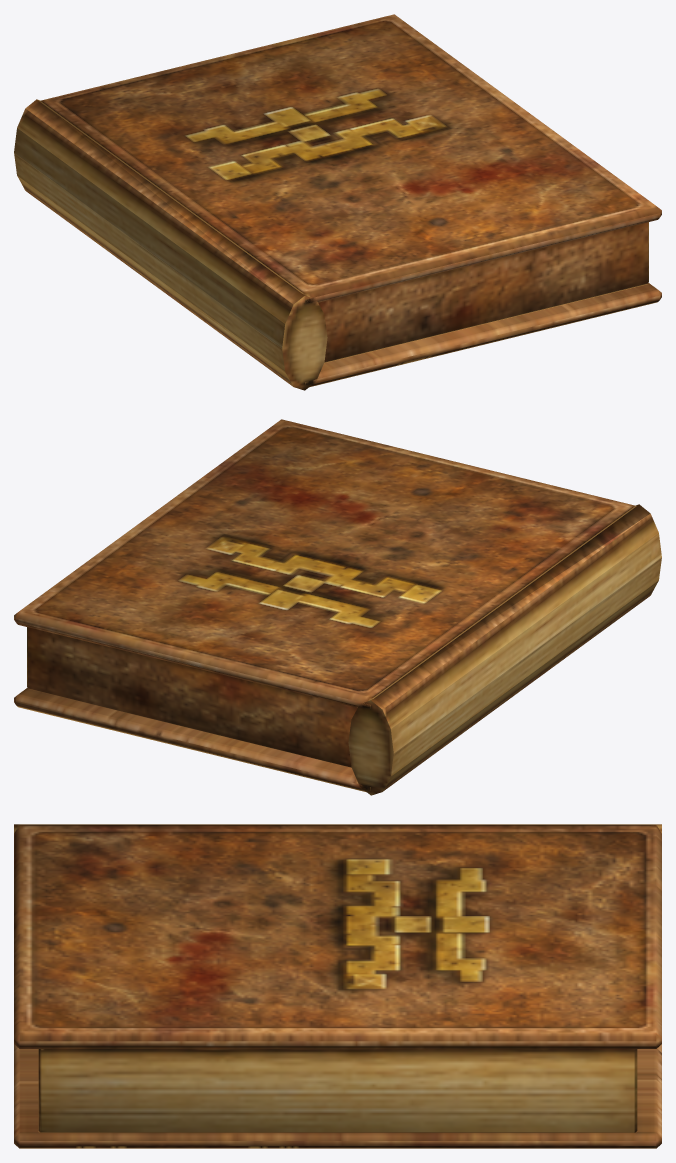
File: item_mm9_10391.glb
The picture shows the model from 3 angles, top to bottom: view 1: azimuth 30°, elevation 25°; view 2: azimuth 150°, elevation 25°; view 3: azimuth 270°, elevation 25°; orthographic projection. The views are drawn at different scales.
Visible parts, largest first — view 1: d10391; view 2: d10391; view 3: d10391.
Part boxes in pixels (left/top/right/bottom): d10391: left=14, top=14, right=661, bottom=390; d10391: left=14, top=419, right=661, bottom=795; d10391: left=14, top=824, right=661, bottom=1148.
Size of the model in its own units: 53.32 by 12.68 by 64.8.
1 material, 1 textured.
